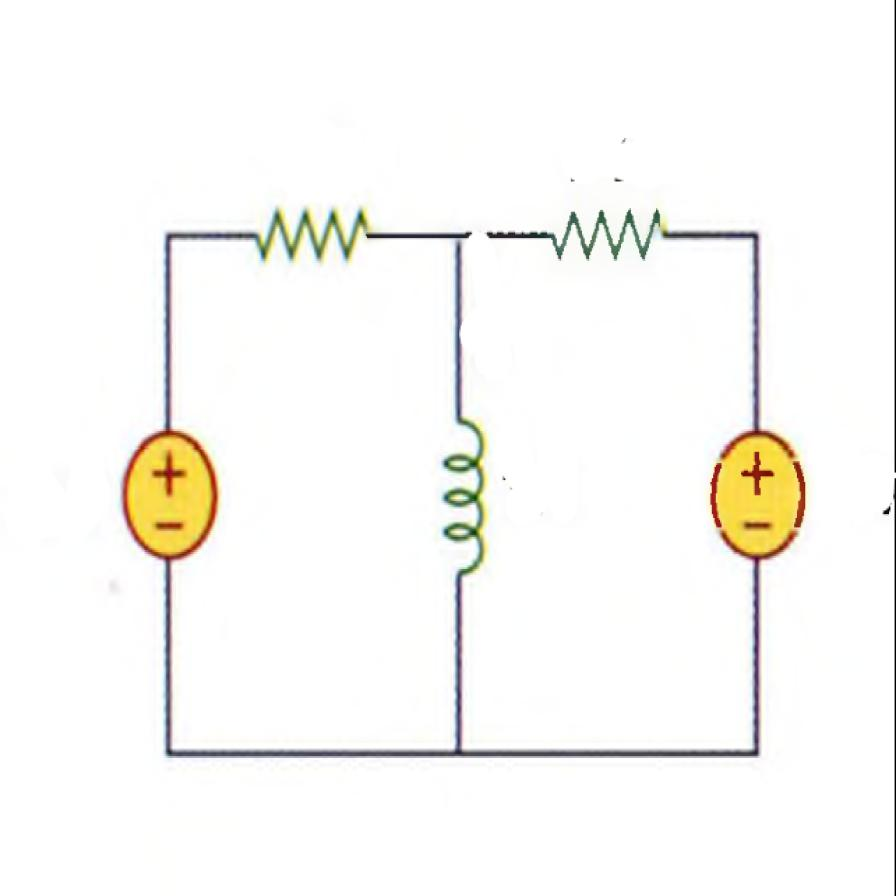L2: (424, 393, 500, 616)
R1: (238, 172, 390, 283), (530, 171, 686, 279)
V1: (700, 407, 820, 582), (118, 406, 230, 576)
